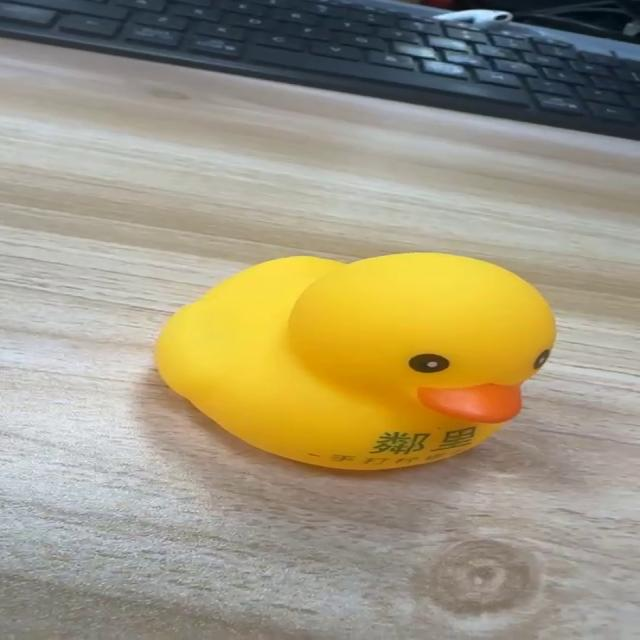yellow_duck: (152, 250, 557, 471)
